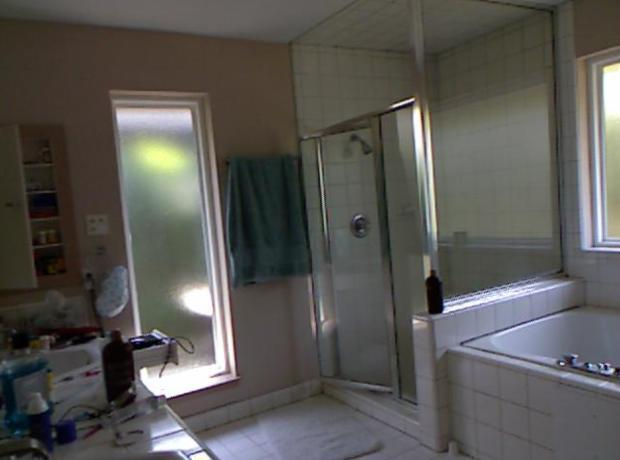Ducha: (410, 270, 616, 456)
